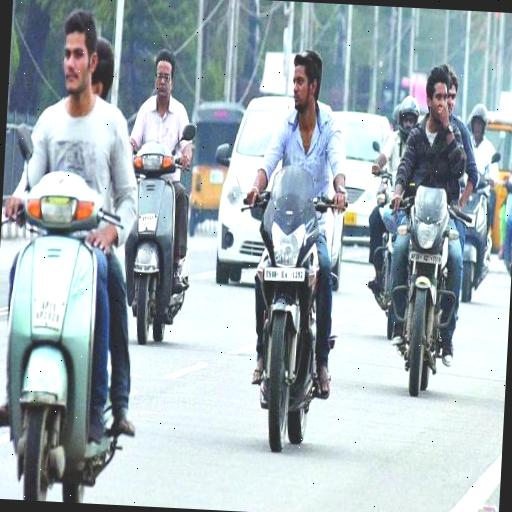helmet: (364, 82, 414, 320), (455, 100, 500, 306)
no helmet: (0, 5, 127, 486), (232, 38, 350, 443), (122, 44, 204, 334), (402, 62, 470, 390)
